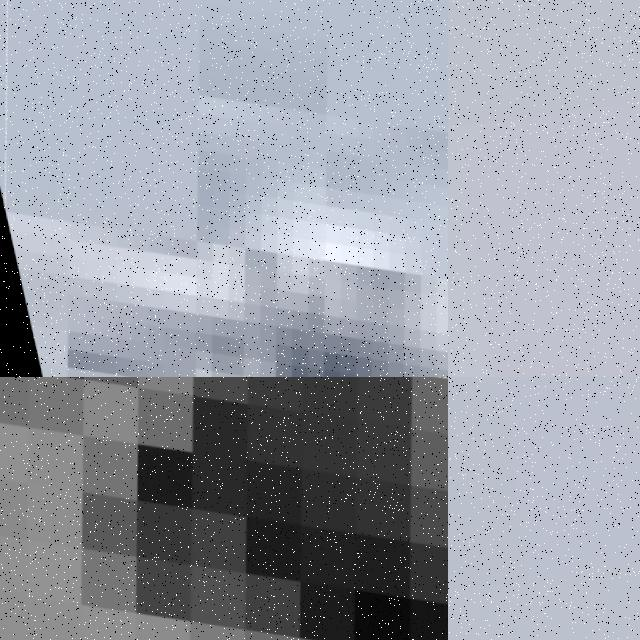0: (0, 0, 448, 377)
drone: (0, 377, 448, 640)
